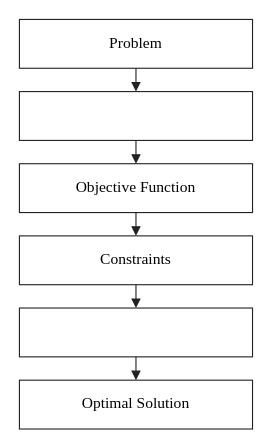
Image size: 272x448. Some labels were removed from this diagram. Each missing label, with the centre of its shape:
"Optimization Algorithm" belongs at point 135,332.
"Variables" belongs at point 135,115.
